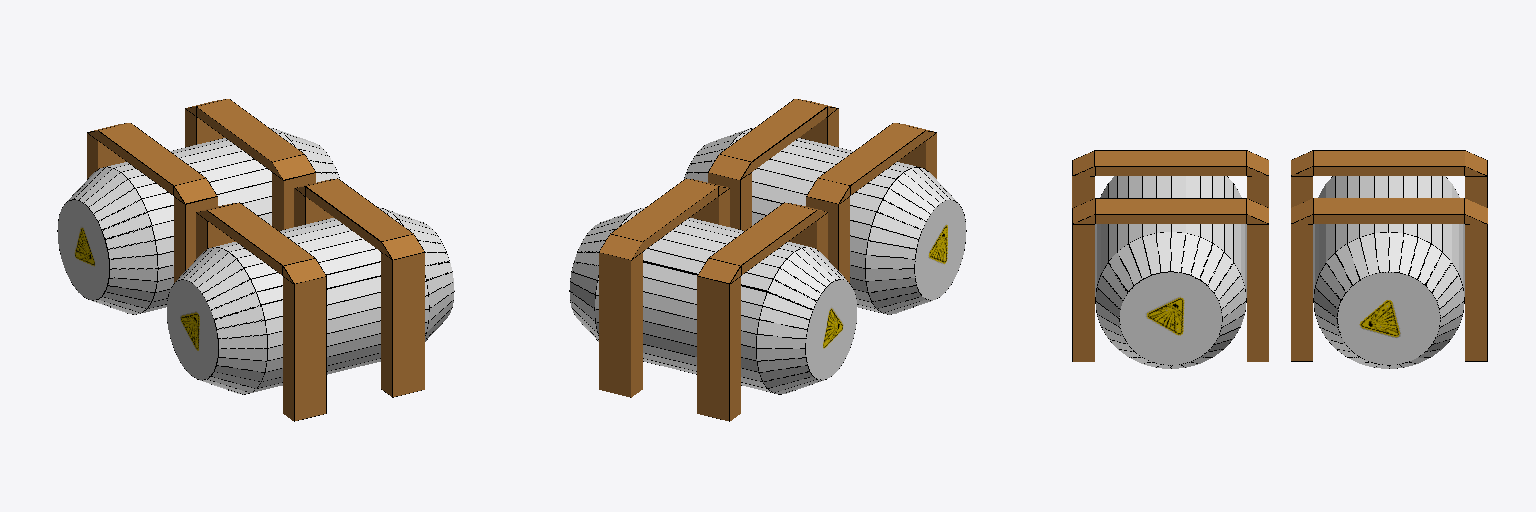
3 renders of one model, left to right at view 1: azimuth 30°, elevation 25°; view 2: azimuth 150°, elevation 25°; view 3: azimuth 270°, elevation 25°, orthographic.
Parts seen in each view (by area): view 1: fuel_tanks_Cylinder.003; view 2: fuel_tanks_Cylinder.003; view 3: fuel_tanks_Cylinder.003.
Part boxes in pixels (left/top/right/bottom): fuel_tanks_Cylinder.003: left=57, top=99, right=454, bottom=421; fuel_tanks_Cylinder.003: left=569, top=99, right=966, bottom=421; fuel_tanks_Cylinder.003: left=1072, top=150, right=1487, bottom=368.
Size of the model in its own units: 3.6 by 2.15 by 5.48.
Materials: 1 (1 with a texture image).